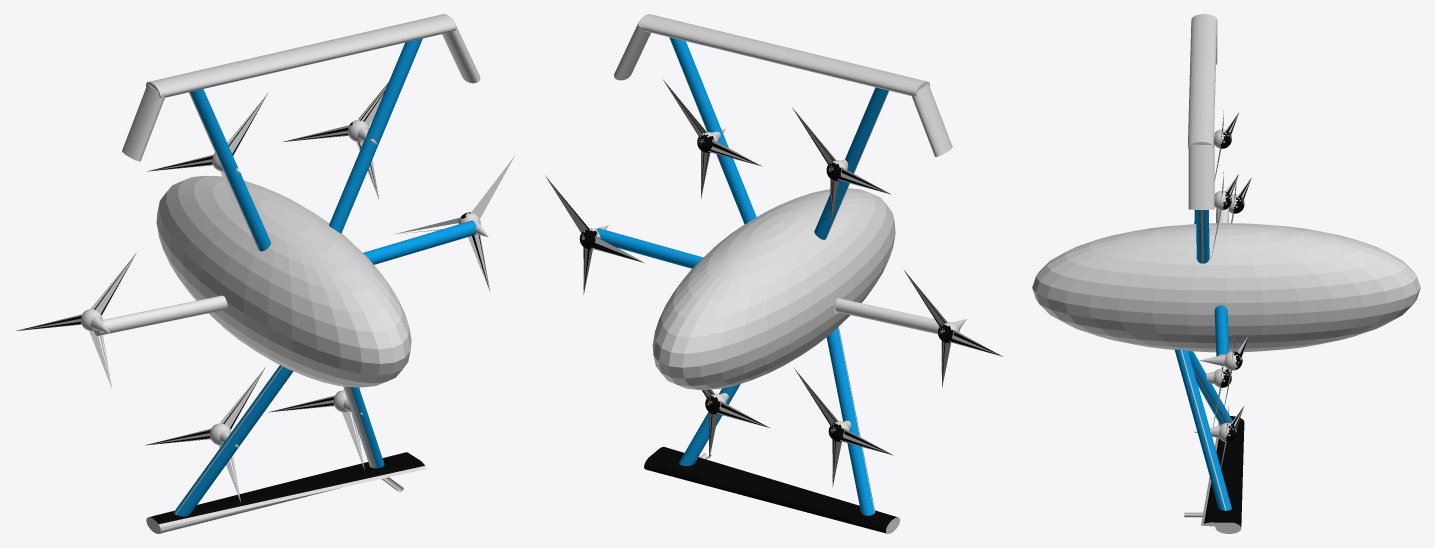
Rendered from Drone2.fbx.
The picture shows the model from 3 angles, left to right: view 1: azimuth 30°, elevation 25°; view 2: azimuth 150°, elevation 25°; view 3: azimuth 270°, elevation 25°; orthographic projection. The views are drawn at different scales.
Visible parts, largest first — view 1: Cylinder.001; view 2: Cylinder.001; view 3: Cylinder.001.
Boxes of the visible parts, x1=… form: Cylinder.001: x1=16, y1=14, x2=514, y2=533; Cylinder.001: x1=545, y1=14, x2=1002, y2=533; Cylinder.001: x1=1032, y1=14, x2=1420, y2=533.
Size of the model in its own units: 770 by 693 by 600.
